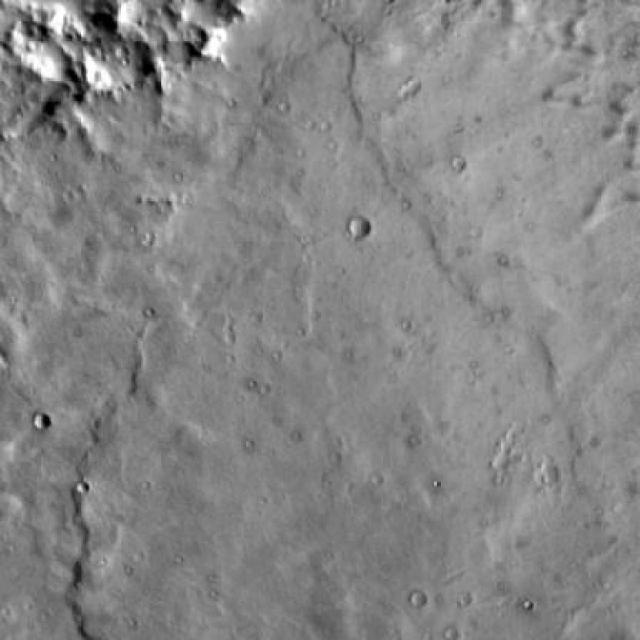crater: (348, 218, 370, 239), (537, 464, 558, 485), (410, 589, 427, 605), (34, 414, 49, 429)
